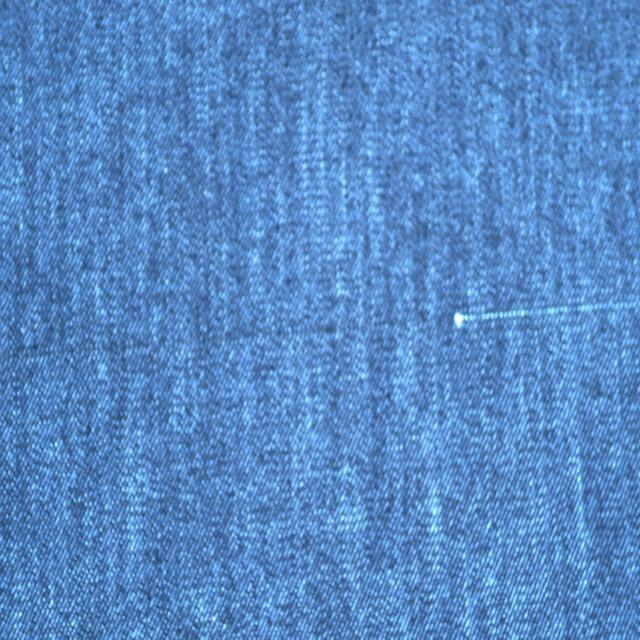pulled_or_thick_thread: (441, 295, 639, 341)
